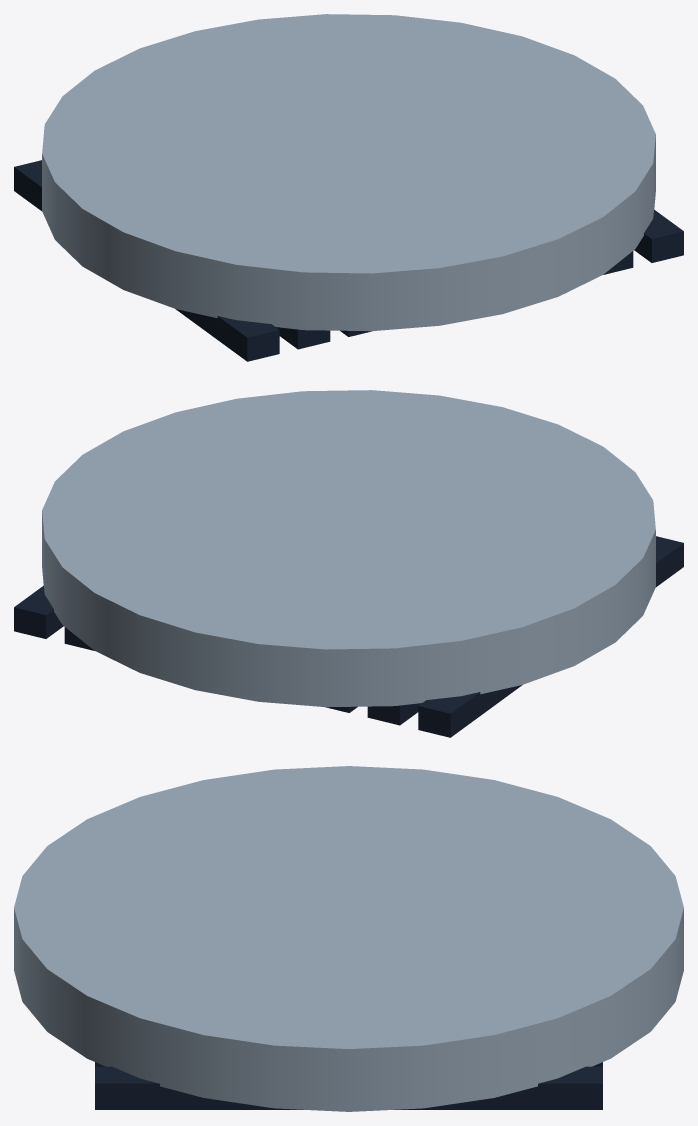
The model's file is floor-drain.glb.
3 views of the same model, one above another, from view 1: azimuth 30°, elevation 25°; view 2: azimuth 150°, elevation 25°; view 3: azimuth 270°, elevation 25° (orthographic). The views are drawn at different scales.
Parts seen in each view (by area): view 1: Floor drain; view 2: Floor drain; view 3: Floor drain.
Part boxes in pixels (left/top/right/bottom): Floor drain: left=14, top=14, right=683, bottom=361; Floor drain: left=14, top=390, right=683, bottom=737; Floor drain: left=14, top=766, right=683, bottom=1111.
Size of the model in its own units: 1.16 by 0.165 by 1.16.
